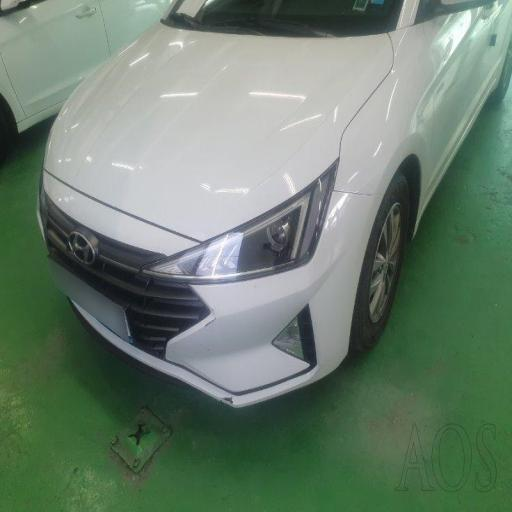scratch: (106, 57, 348, 220)
